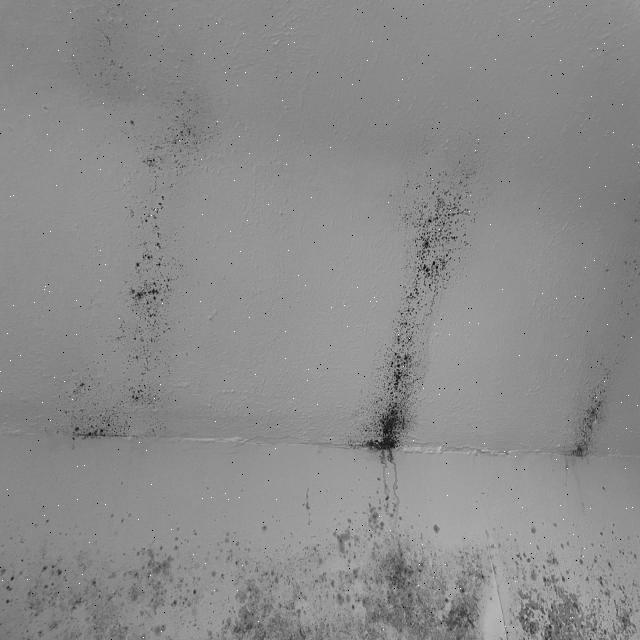stain marks: (3, 511, 640, 639), (114, 58, 215, 436), (352, 166, 477, 450), (560, 379, 634, 462), (57, 374, 111, 448), (371, 452, 406, 512)
